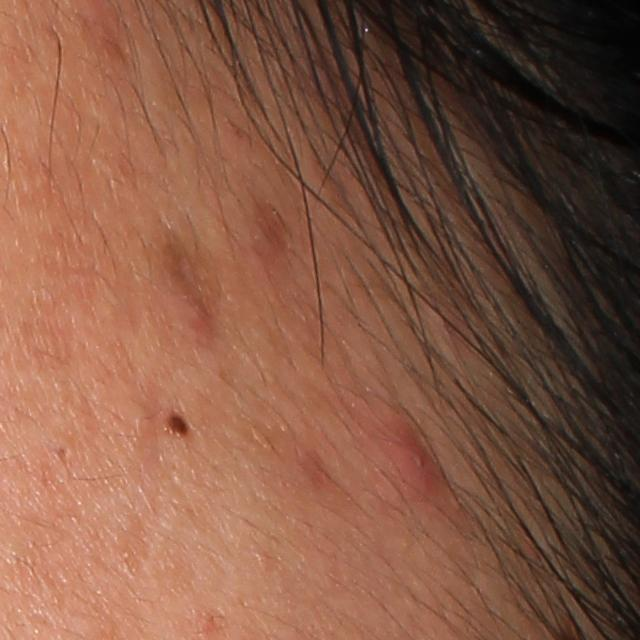nevus: (166, 412, 189, 438)
papule: (364, 393, 436, 491)
